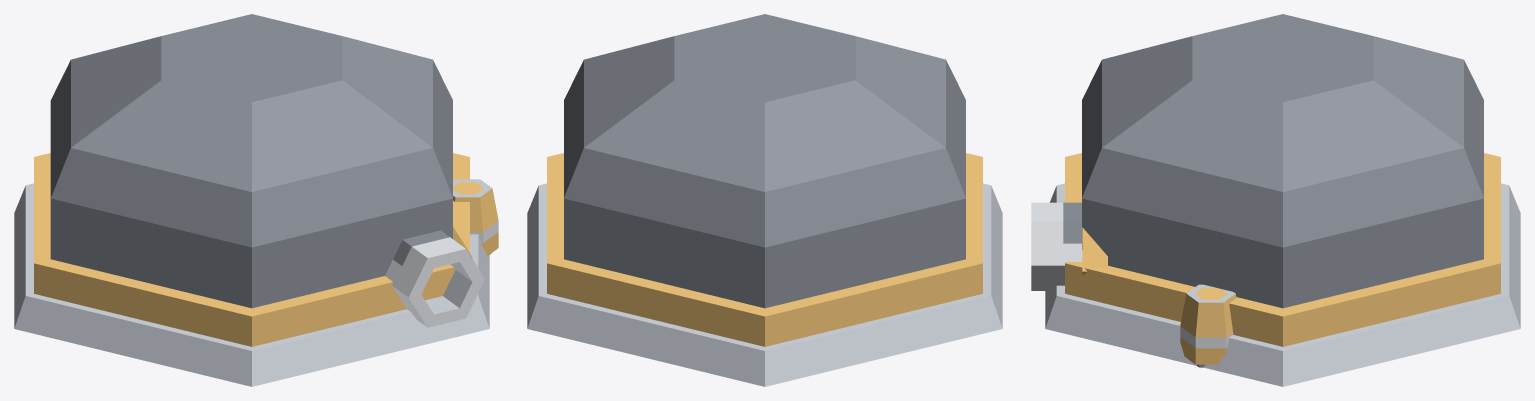
File: greenhouse_lvl2.glb
3 views of the same model, side by side, from view 1: azimuth 30°, elevation 25°; view 2: azimuth 150°, elevation 25°; view 3: azimuth 270°, elevation 25° (orthographic).
Visible parts, largest first — view 1: hangar_roundGlass.001, pipe_ring.001, machine_barrel.001; view 2: hangar_roundGlass.001; view 3: hangar_roundGlass.001, pipe_ring.001, machine_barrel.001.
Boxes of the visible parts, x1,y1,x2,y2 form: hangar_roundGlass.001: (14, 14, 489, 386); pipe_ring.001: (385, 227, 484, 327); machine_barrel.001: (453, 179, 498, 255); hangar_roundGlass.001: (527, 14, 1002, 386); hangar_roundGlass.001: (1045, 14, 1520, 386); pipe_ring.001: (1031, 202, 1107, 290); machine_barrel.001: (1180, 284, 1236, 367).
Size of the model in its own units: 3.43 by 1.47 by 3.06.
